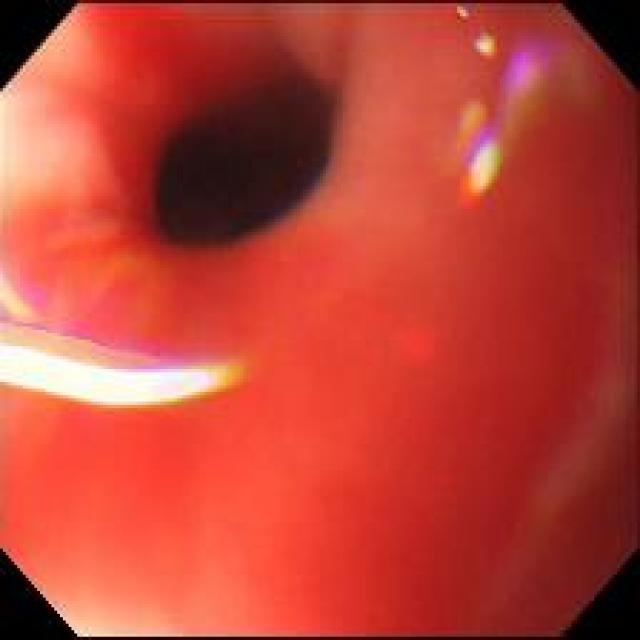blur: (2, 3, 637, 636)
color misalignment: (1, 274, 146, 367), (449, 97, 507, 212), (507, 36, 557, 115), (214, 355, 262, 404), (473, 22, 502, 69), (449, 3, 472, 22)
contrast: (147, 45, 338, 256)
specularity: (0, 345, 73, 398), (132, 368, 213, 403), (74, 364, 132, 405)
